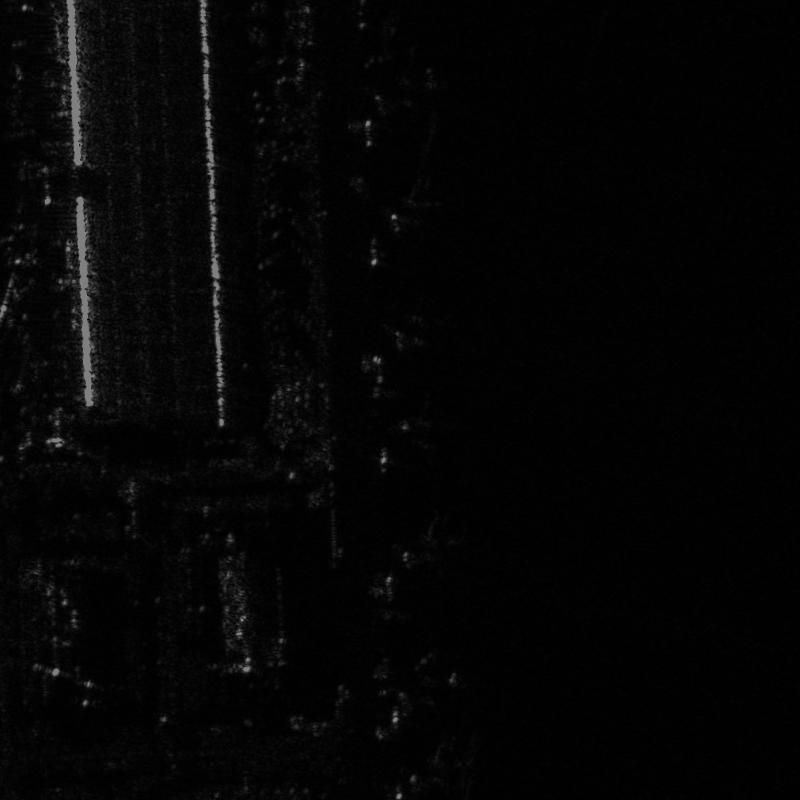A220: (379, 642, 478, 718), (373, 46, 453, 118)
A320/321: (383, 511, 470, 574)
other: (375, 171, 455, 244), (403, 733, 485, 799), (384, 398, 461, 458), (372, 303, 441, 361)
